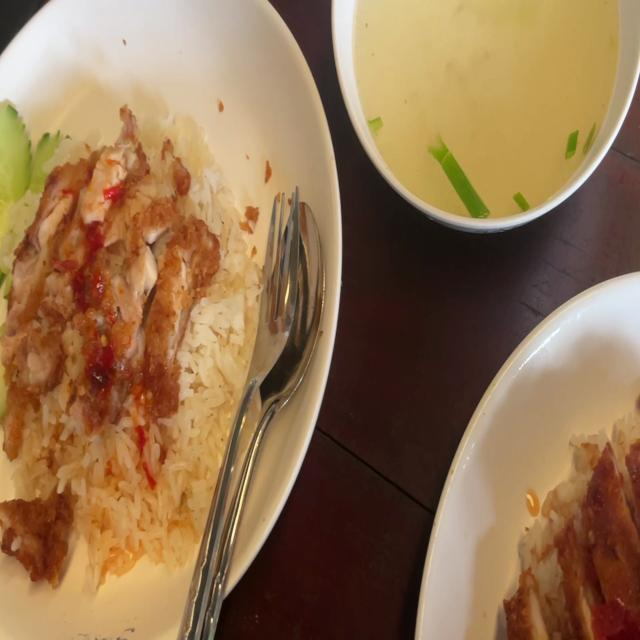chicken_rice: (0, 85, 261, 586), (492, 390, 640, 640)
cucumber: (0, 96, 74, 205), (0, 240, 15, 416), (0, 178, 19, 242)
fried_chicken: (19, 110, 217, 418), (500, 448, 640, 640), (0, 479, 78, 589)
